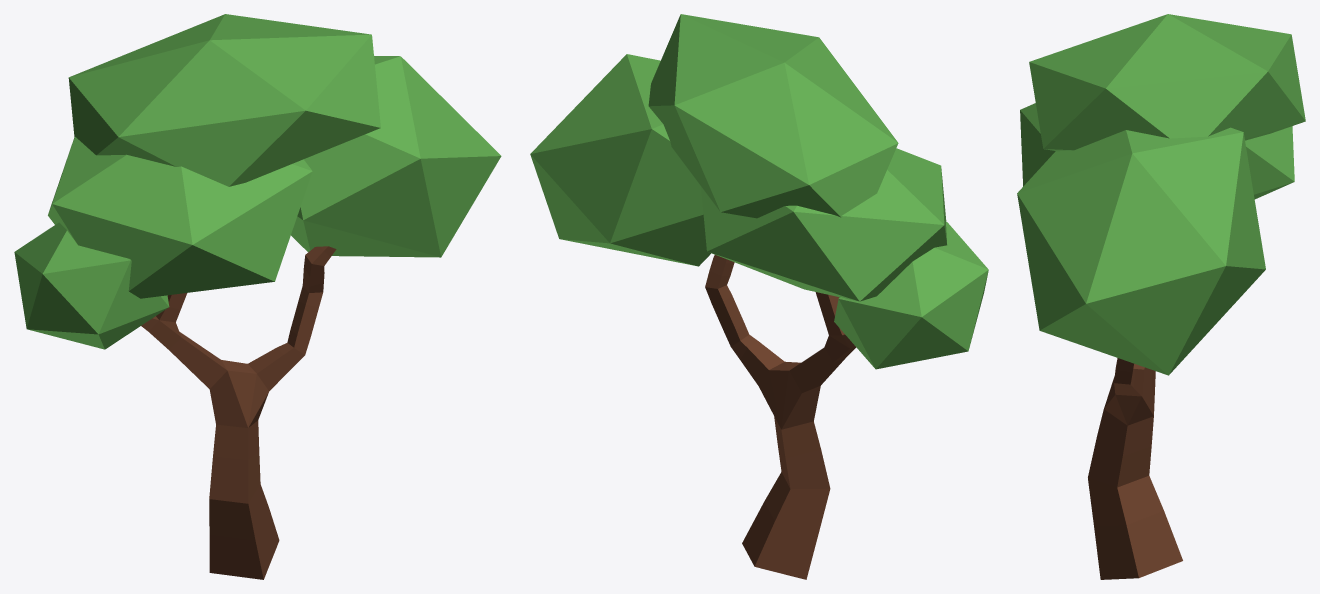
Rendered from tree.fbx.
3 renders of one model, left to right at view 1: azimuth 30°, elevation 25°; view 2: azimuth 150°, elevation 25°; view 3: azimuth 270°, elevation 25°, orthographic. The views are drawn at different scales.
Parts seen in each view (by area): view 1: Cube.002; view 2: Cube.002; view 3: Cube.002.
Boxes of the visible parts, <box> form: Cube.002: <box>14,14,501,579</box>; Cube.002: <box>530,14,988,579</box>; Cube.002: <box>1017,14,1305,579</box>.
Size of the model in its own units: 676 by 768 by 363.
